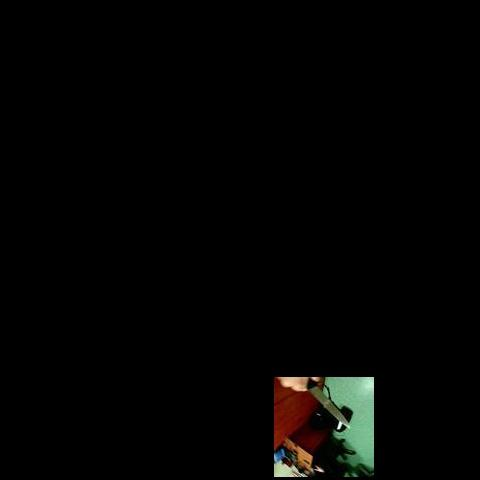knife: (307, 378, 350, 428)
